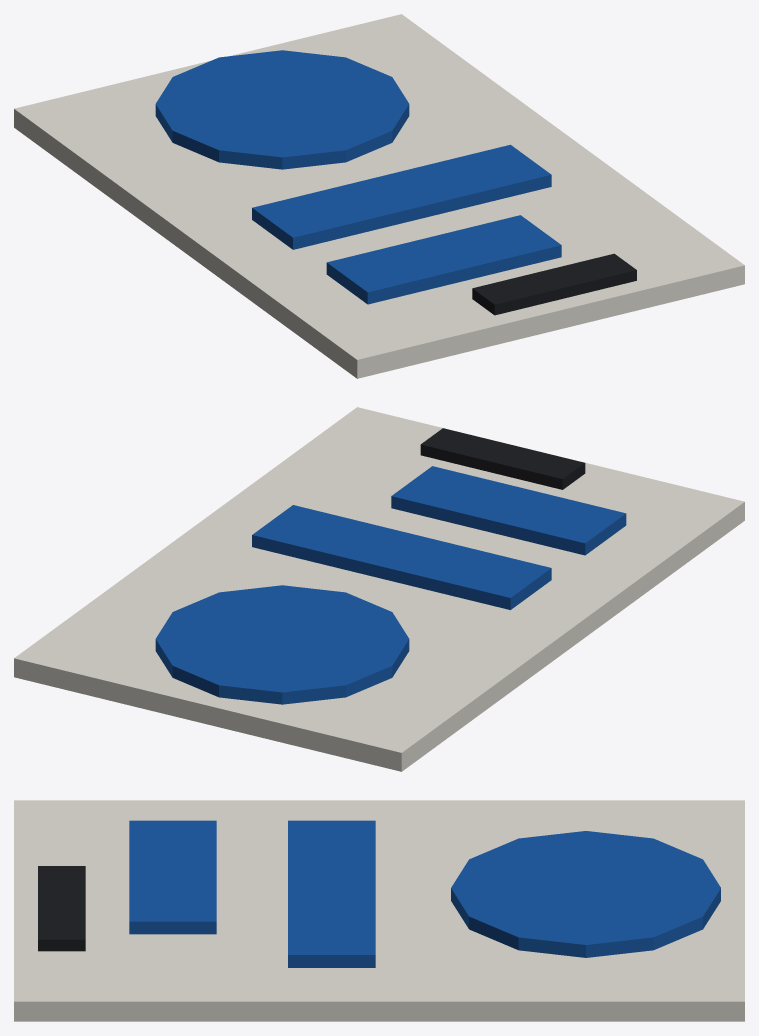
File: civilian_livery.glb
3 views of the same model, one above another, from view 1: azimuth 30°, elevation 25°; view 2: azimuth 150°, elevation 25°; view 3: azimuth 270°, elevation 25° (orthographic). The views are drawn at different scales.
Bounding box in the file's own units: 0.3 × 0.023 × 0.46.
